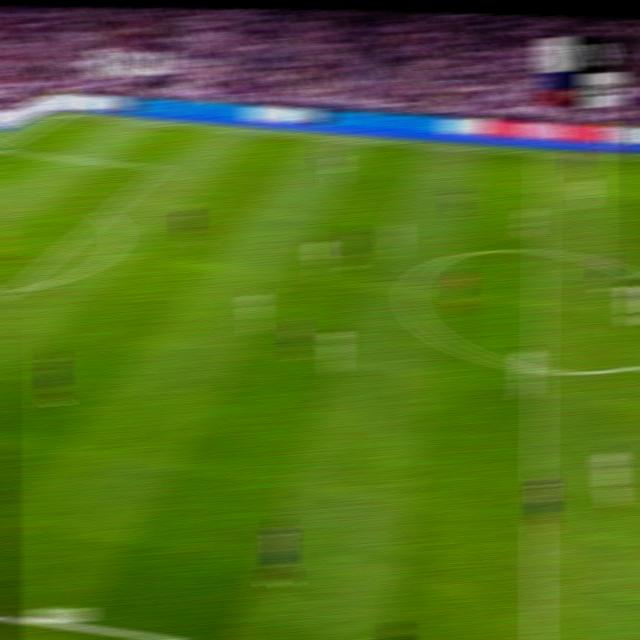bigarea_top_inner: (151, 161, 167, 175)
bigarea_top_outter: (0, 141, 8, 154)
bottom_arc_area_intersection: (5, 281, 22, 297)
corner: (57, 109, 75, 119)
halfcircle_bottom: (528, 355, 550, 381)
halfcircle_top: (529, 237, 551, 262)
midline_top_intersection: (534, 146, 550, 161)
top_arc_area_intersection: (95, 206, 112, 222)
